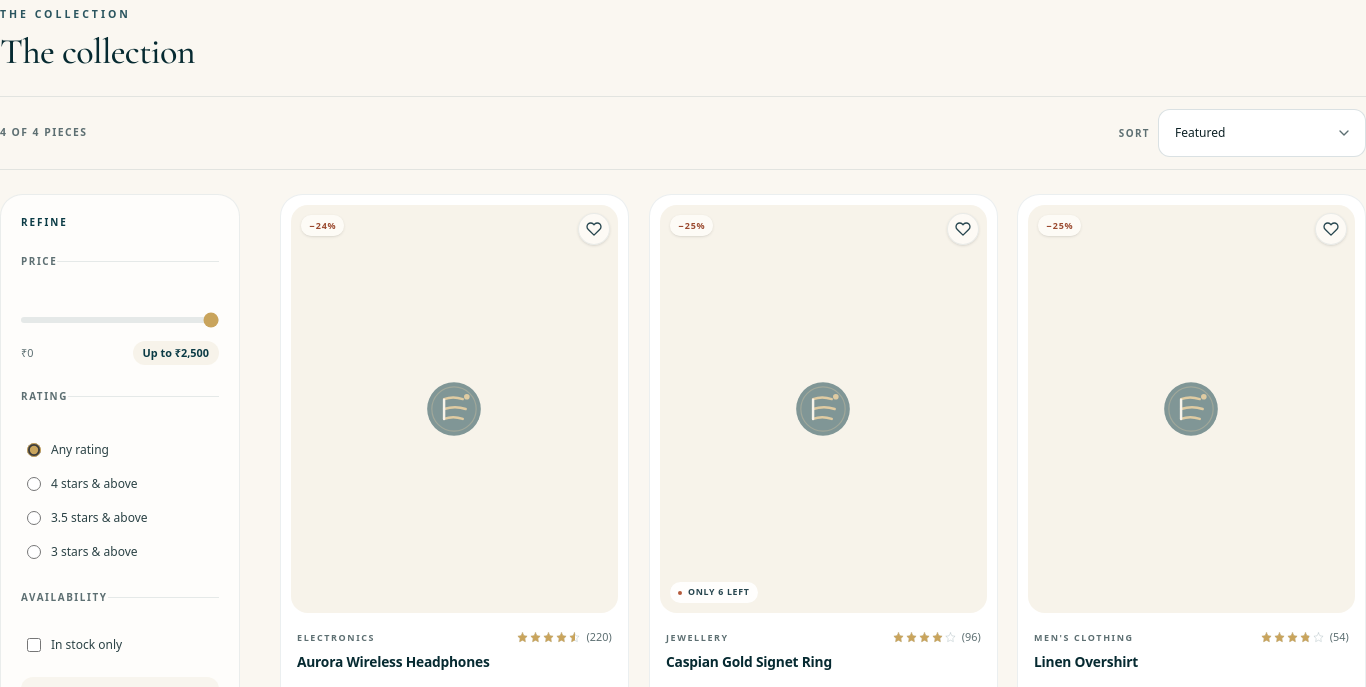
Test: ProductListing › filters products by rating and shows the active filter
The image size is (1366, 687).
Click the radio button labelled "4 stars & above": click(34, 484) [27,477,41,491]
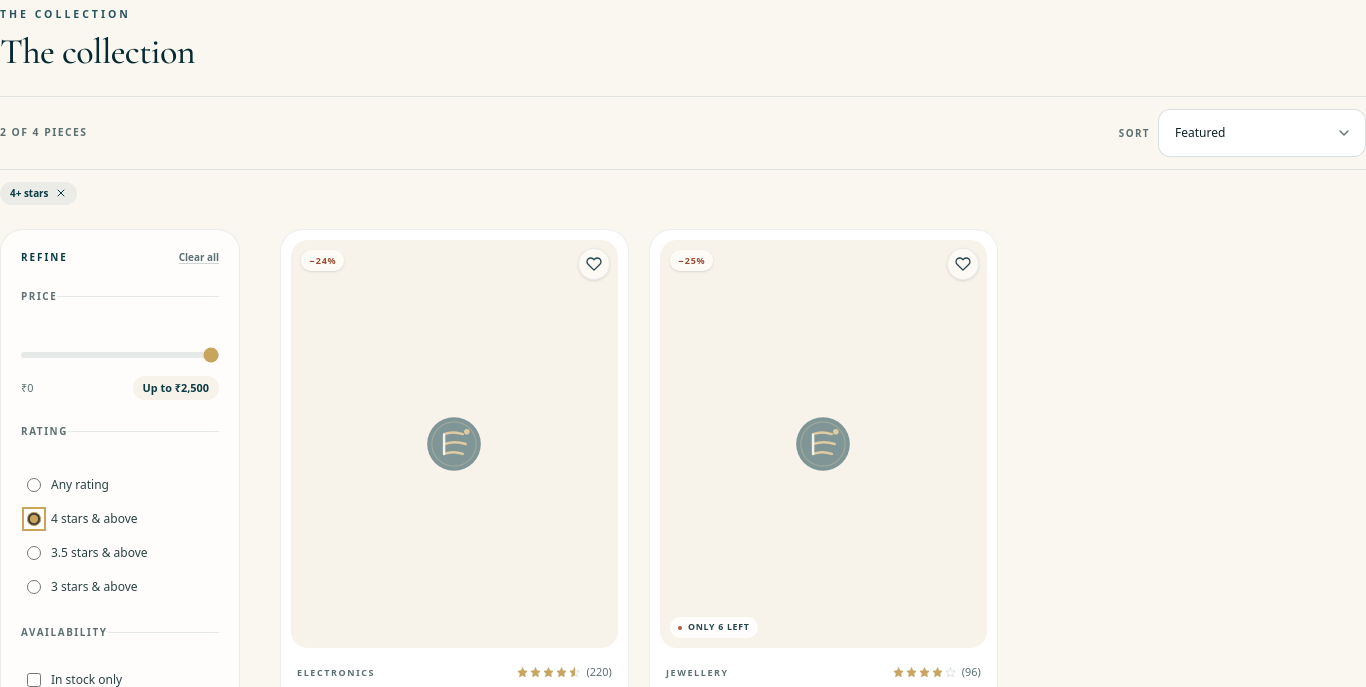
Expected: the button named "remove rating filter" is shown, [0,182,76,205]
